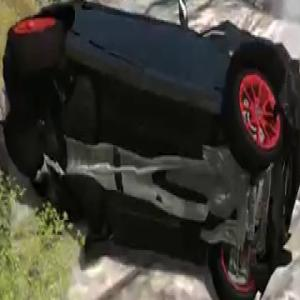serious: (2, 0, 300, 300)
